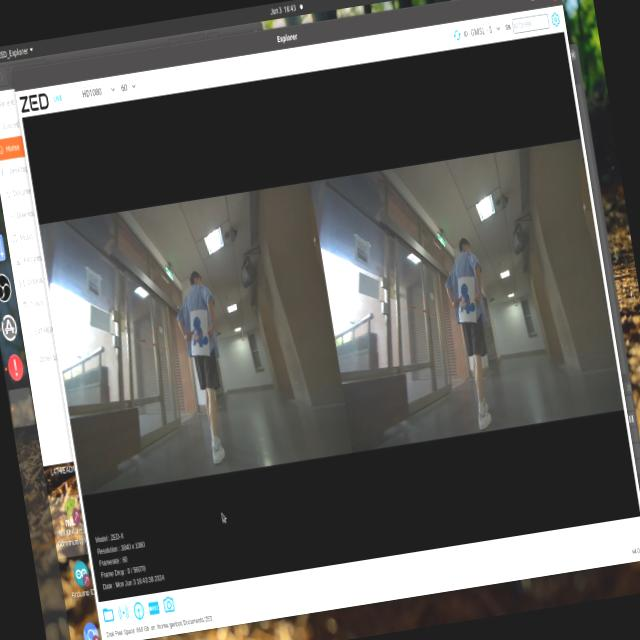blue: (455, 272, 483, 328), (190, 308, 218, 354)
